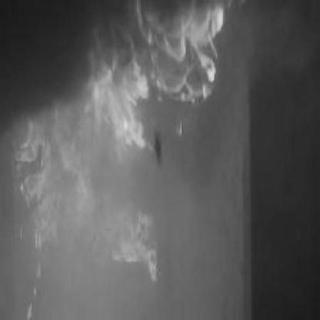Fire: (9, 8, 230, 276)
